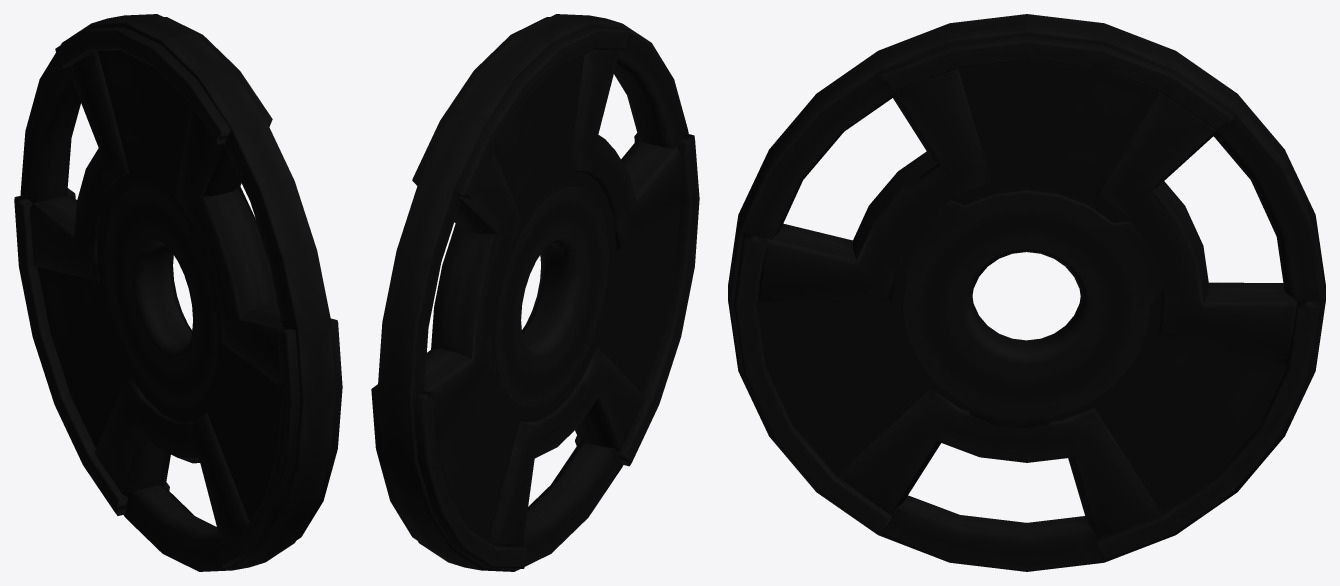
Rendered from MSH_Plate_02.FBX.
The picture shows the model from 3 angles, left to right: view 1: azimuth 30°, elevation 25°; view 2: azimuth 150°, elevation 25°; view 3: azimuth 270°, elevation 25°; orthographic projection. The views are drawn at different scales.
Visible parts, largest first — view 1: MSH_Plate_02; view 2: MSH_Plate_02; view 3: MSH_Plate_02.
Boxes of the visible parts, <box> form: MSH_Plate_02: <box>14,14,342,571</box>; MSH_Plate_02: <box>371,14,699,571</box>; MSH_Plate_02: <box>728,14,1325,571</box>.
Size of what is drawn, in the model's own units: 3.11 by 28.71 by 28.71.
